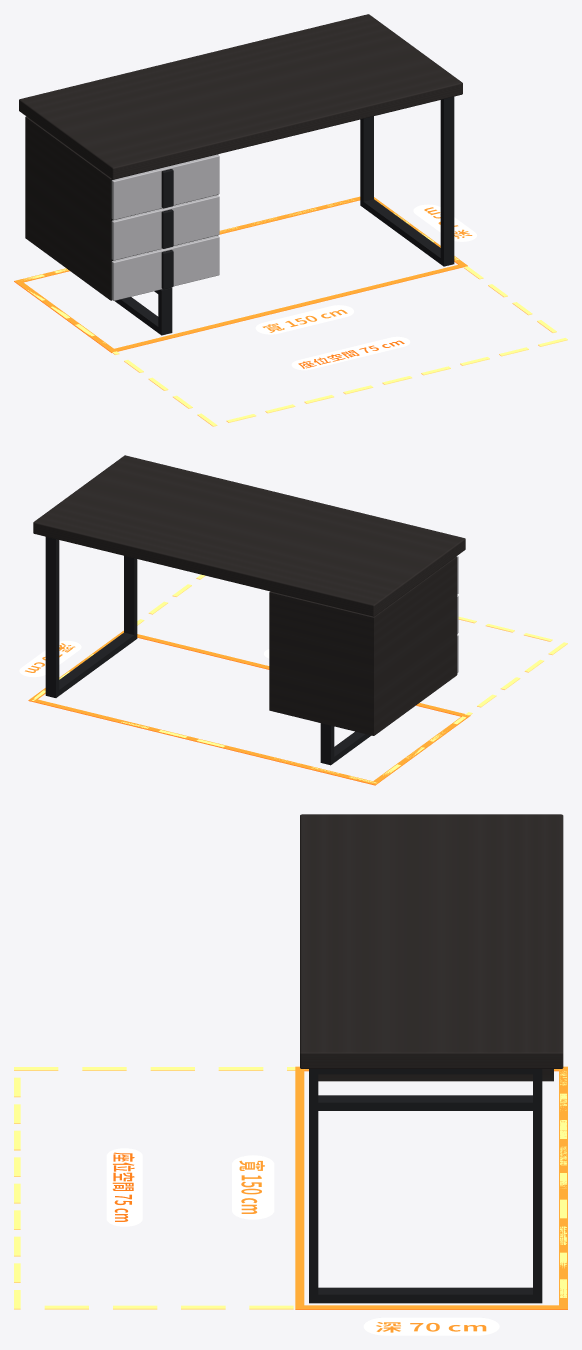
The model's file is ownDali-f.glb.
The picture shows the model from 3 angles, top to bottom: view 1: azimuth 30°, elevation 25°; view 2: azimuth 150°, elevation 25°; view 3: azimuth 270°, elevation 25°; orthographic projection. The views are drawn at different scales.
Parts seen in each view (by area): view 1: object 1, object 3, ar-frame, object 11, object 8, object 5, object 23, object 19, object 21, object 13, object 17; view 2: object 1, object 3, ar-frame, object 21, object 19, object 23, object 13, object 15; view 3: object 1, ar-frame, object 19, object 13, object 23, object 21, object 3, object 20.
Part boxes in pixels (<box>): object 1: <box>19,14,462,179</box>; object 3: <box>25,116,111,300</box>; ar-frame: <box>14,196,567,426</box>; object 11: <box>111,154,219,219</box>; object 8: <box>111,195,219,260</box>; object 5: <box>111,235,219,300</box>; object 23: <box>440,96,454,266</box>; object 19: <box>360,199,454,266</box>; object 21: <box>360,116,373,207</box>; object 13: <box>115,297,172,335</box>; object 17: <box>158,287,172,334</box>; object 1: <box>33,455,465,616</box>; object 3: <box>269,557,456,735</box>; ar-frame: <box>19,574,567,785</box>; object 21: <box>45,537,59,692</box>; object 19: <box>45,632,137,697</box>; object 23: <box>124,556,137,639</box>; object 13: <box>320,731,371,765</box>; object 15: <box>320,723,334,764</box>; object 1: <box>300,814,563,1068</box>; ar-frame: <box>14,1066,567,1335</box>; object 19: <box>309,1287,542,1303</box>; object 13: <box>318,1095,532,1110</box>; object 23: <box>309,1069,318,1303</box>; object 21: <box>533,1069,542,1303</box>; object 3: <box>318,1069,553,1081</box>; object 20: <box>318,1069,532,1074</box>.
Size of the model in its own units: 1.69 by 0.75 by 1.47.
10 materials, 4 textured.
